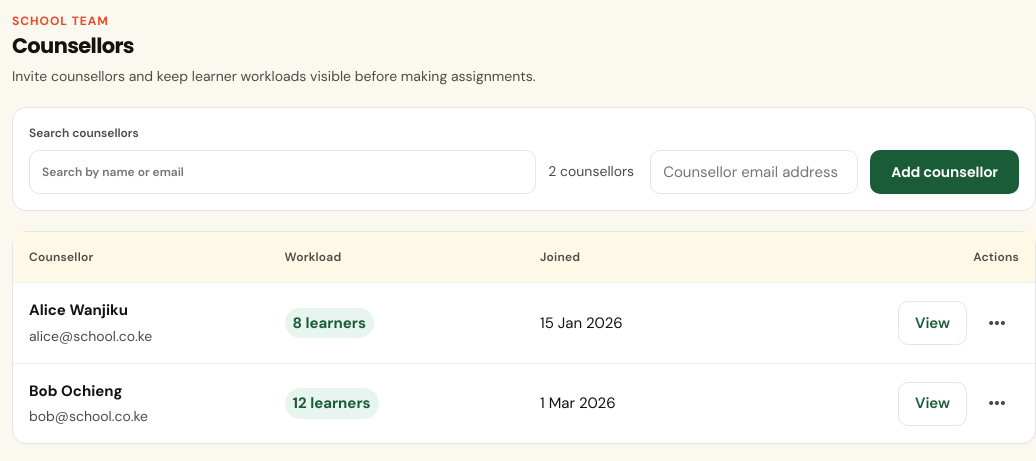
Test case: CounselorManagementPage › uses a responsive workload list that can be searched
Expected: the table named "School counsellors" is shown, [13,232,1035,443]
In the search field labelled "Search counsellors": (283, 172) [29,150,536,194], type "Bob"
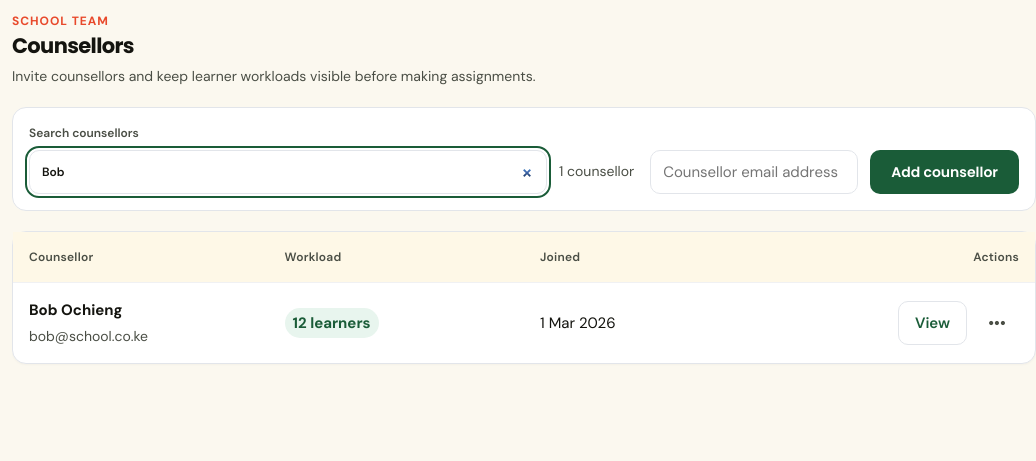
Expected: the text "Bob Ochieng" is shown, [29,300,122,320]
Now the text "Alice Wanjiku" is gone
